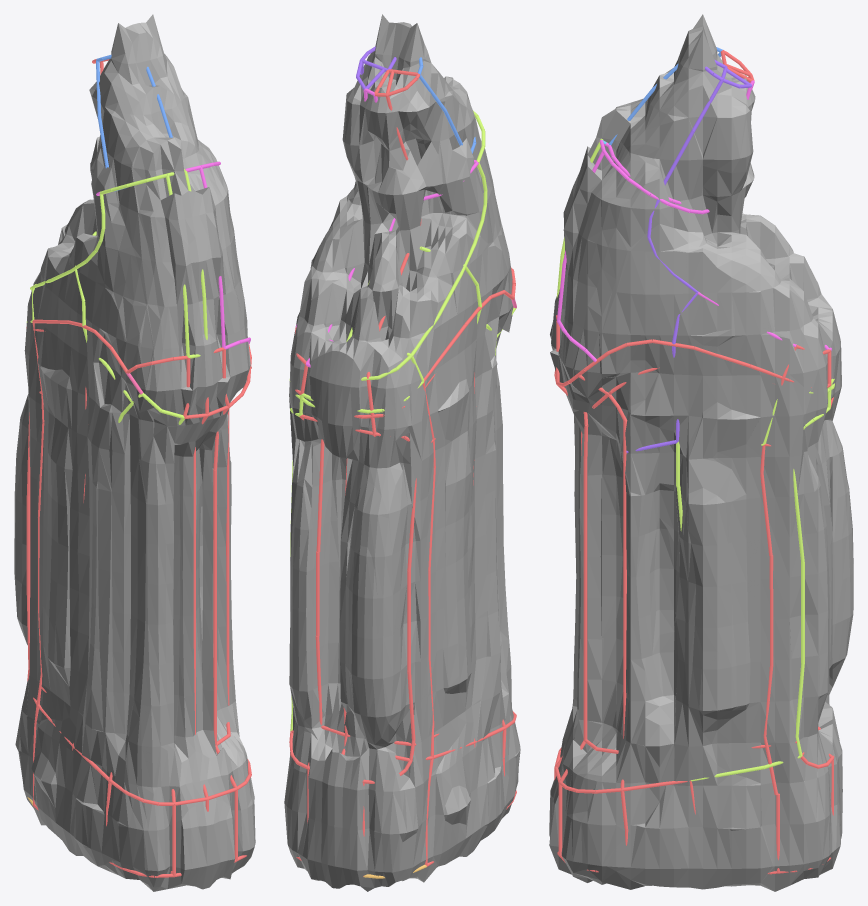
Rendered from flowrep_bottle.gltf.
3 views of the same model, side by side, from view 1: azimuth 30°, elevation 25°; view 2: azimuth 150°, elevation 25°; view 3: azimuth 270°, elevation 25° (orthographic). The views are drawn at different scales.
Bounding box in the file's own units: 0.2079 × 1 × 0.328.
